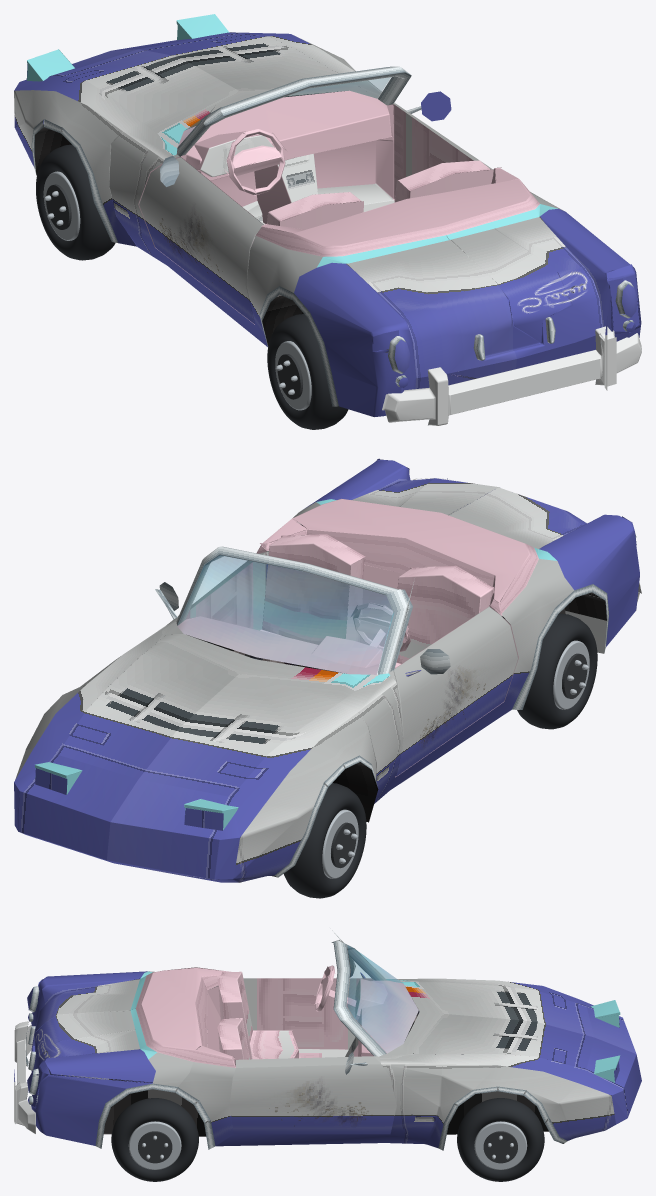
Rendered from car-lisa_v.glb.
3 renders of one model, top to bottom at view 1: azimuth 30°, elevation 25°; view 2: azimuth 150°, elevation 25°; view 3: azimuth 270°, elevation 25°, orthographic. The views are drawn at different scales.
Visible parts, largest first — view 1: lisa_vShape.007, lisa_vShape.003, TrunkRotShape.008, HoodRotShape.006, lisa_vShape.004, DoorDRotShape.027, lisa_vShape.006, lisa_vShape.002, Rounded tire.044, Rounded tire.045, DoorPRotShape.030, lisa_vShape (+7 smaller); view 2: lisa_vShape.007, HoodRotShape.006, lisa_vShape.006, lisa_vShape.008, lisa_vShape.004, DoorDRotShape.027, lisa_vShape.003, TrunkRotShape.008, lisa_vShape.002, Rounded tire.045, Rounded tire.044, DoorPRotShape.030 (+7 smaller); view 3: lisa_vShape.007, lisa_vShape.005, HoodRotShape.006, DoorPRotShape.028, lisa_vShape.003, lisa_vShape.006, TrunkRotShape.008, DoorDIntShape.001, lisa_vShape.002, lisa_vShape.008, Rounded tire.047, Rounded tire.046 (+7 smaller).
Part boxes in pixels (<box>): lisa_vShape.007: <box>138,90,571,376</box>; lisa_vShape.003: <box>294,208,641,425</box>; TrunkRotShape.008: <box>347,217,602,377</box>; HoodRotShape.006: <box>57,32,365,140</box>; lisa_vShape.004: <box>14,90,544,346</box>; DoorDRotShape.027: <box>139,157,263,323</box>; lisa_vShape.006: <box>14,14,637,387</box>; lisa_vShape.002: <box>31,66,633,425</box>; Rounded tire.044: <box>36,144,115,260</box>; Rounded tire.045: <box>267,314,348,429</box>; DoorPRotShape.030: <box>394,104,473,199</box>; lisa_vShape: <box>34,124,476,417</box>; lisa_vShape.007: <box>177,498,606,777</box>; HoodRotShape.006: <box>57,634,365,796</box>; lisa_vShape.006: <box>14,499,556,879</box>; lisa_vShape.008: <box>177,555,393,674</box>; lisa_vShape.004: <box>20,551,574,882</box>; DoorDRotShape.027: <box>393,607,518,776</box>; lisa_vShape.003: <box>303,458,641,646</box>; TrunkRotShape.008: <box>351,478,586,548</box>; lisa_vShape.002: <box>176,522,636,877</box>; Rounded tire.045: <box>517,613,597,729</box>; Rounded tire.044: <box>284,783,366,898</box>; DoorPRotShape.030: <box>186,552,265,630</box>; lisa_vShape.007: <box>61,965,418,1079</box>; lisa_vShape.005: <box>148,1052,615,1147</box>; HoodRotShape.006: <box>402,981,594,1069</box>; DoorPRotShape.028: <box>229,1064,396,1134</box>; lisa_vShape.003: <box>14,971,155,1145</box>; lisa_vShape.006: <box>27,971,641,1123</box>; TrunkRotShape.008: <box>31,979,139,1072</box>; DoorDIntShape.001: <box>243,978,372,1049</box>; lisa_vShape.002: <box>26,928,567,1150</box>; lisa_vShape.008: <box>347,945,418,1052</box>; Rounded tire.047: <box>457,1098,544,1181</box>; Rounded tire.046: <box>111,1098,198,1181</box>.
Size of the model in its own units: 2.14 by 1.57 by 5.22.
Materials: 14 (11 with a texture image).
